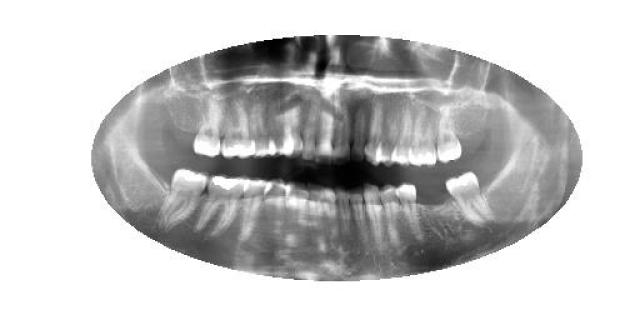Fillings: (196, 174, 245, 241)
